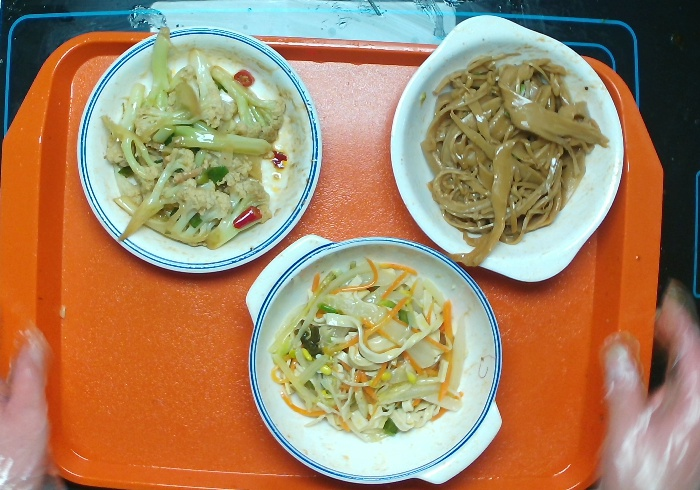HZYJPL-Dai_Er_Bai_Yuan_Wan: (388, 12, 625, 284)
HZYJPL-Lan_Bian_Dai_Er_Wan: (244, 228, 504, 490)
HZYJPL-Lan_Bian_Yuan_Die: (74, 23, 324, 275)
